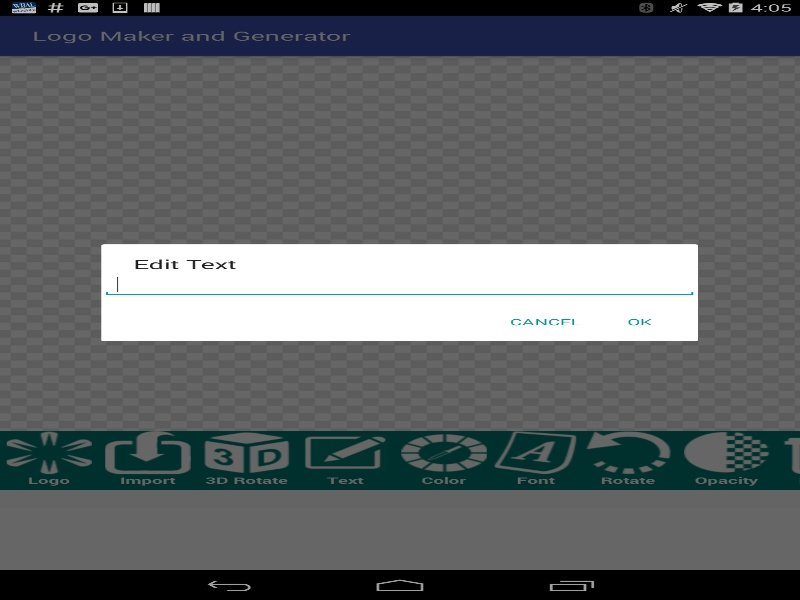Button: (494, 305, 596, 338), (596, 305, 682, 338)
Input: (101, 272, 698, 297)
